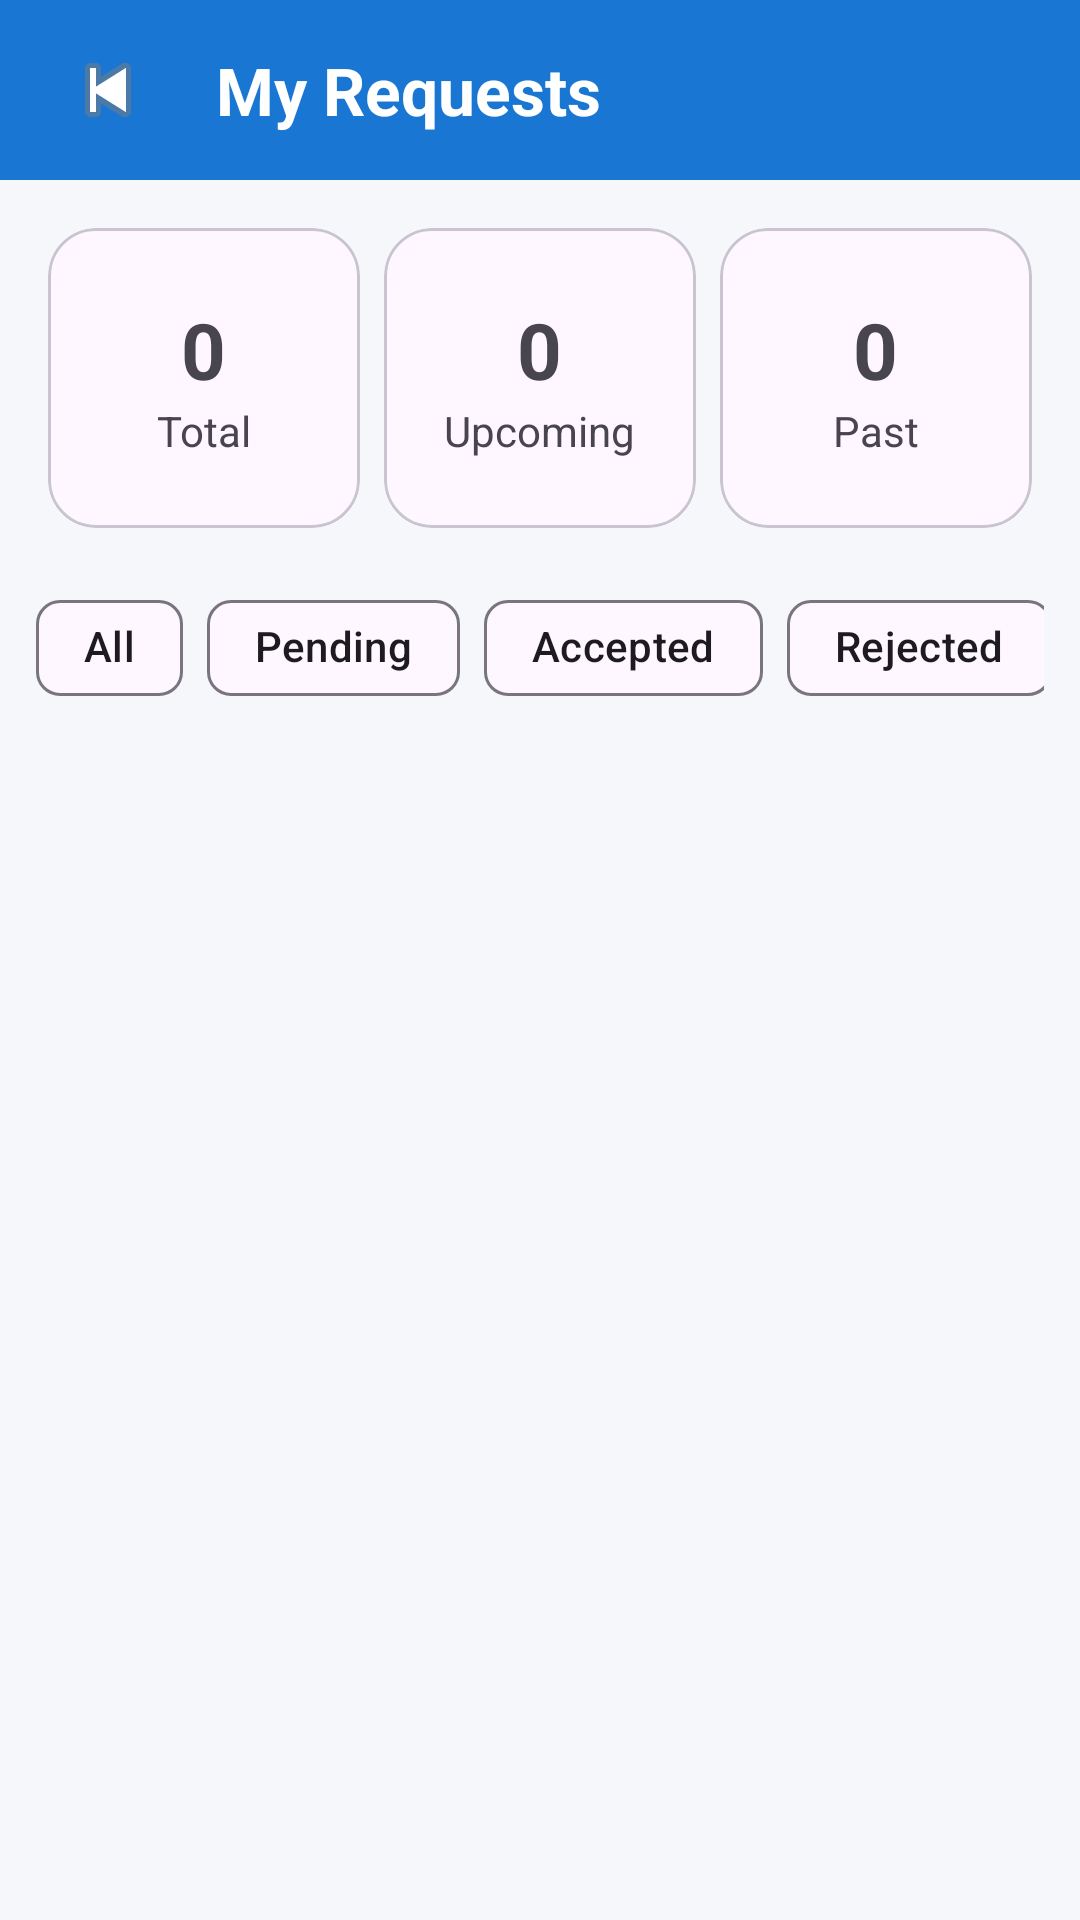

Icons on this 1080×1920 Android screen, each with its box as (x1, y1, x2, y2):
Back: (85, 63, 131, 117)
